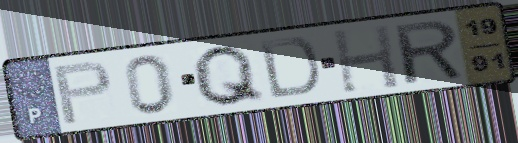0: (120, 51, 178, 118)
D: (255, 35, 322, 101)
H: (329, 22, 403, 96)
P: (50, 58, 115, 127)
Q: (189, 42, 269, 109)
R: (390, 17, 467, 87)
